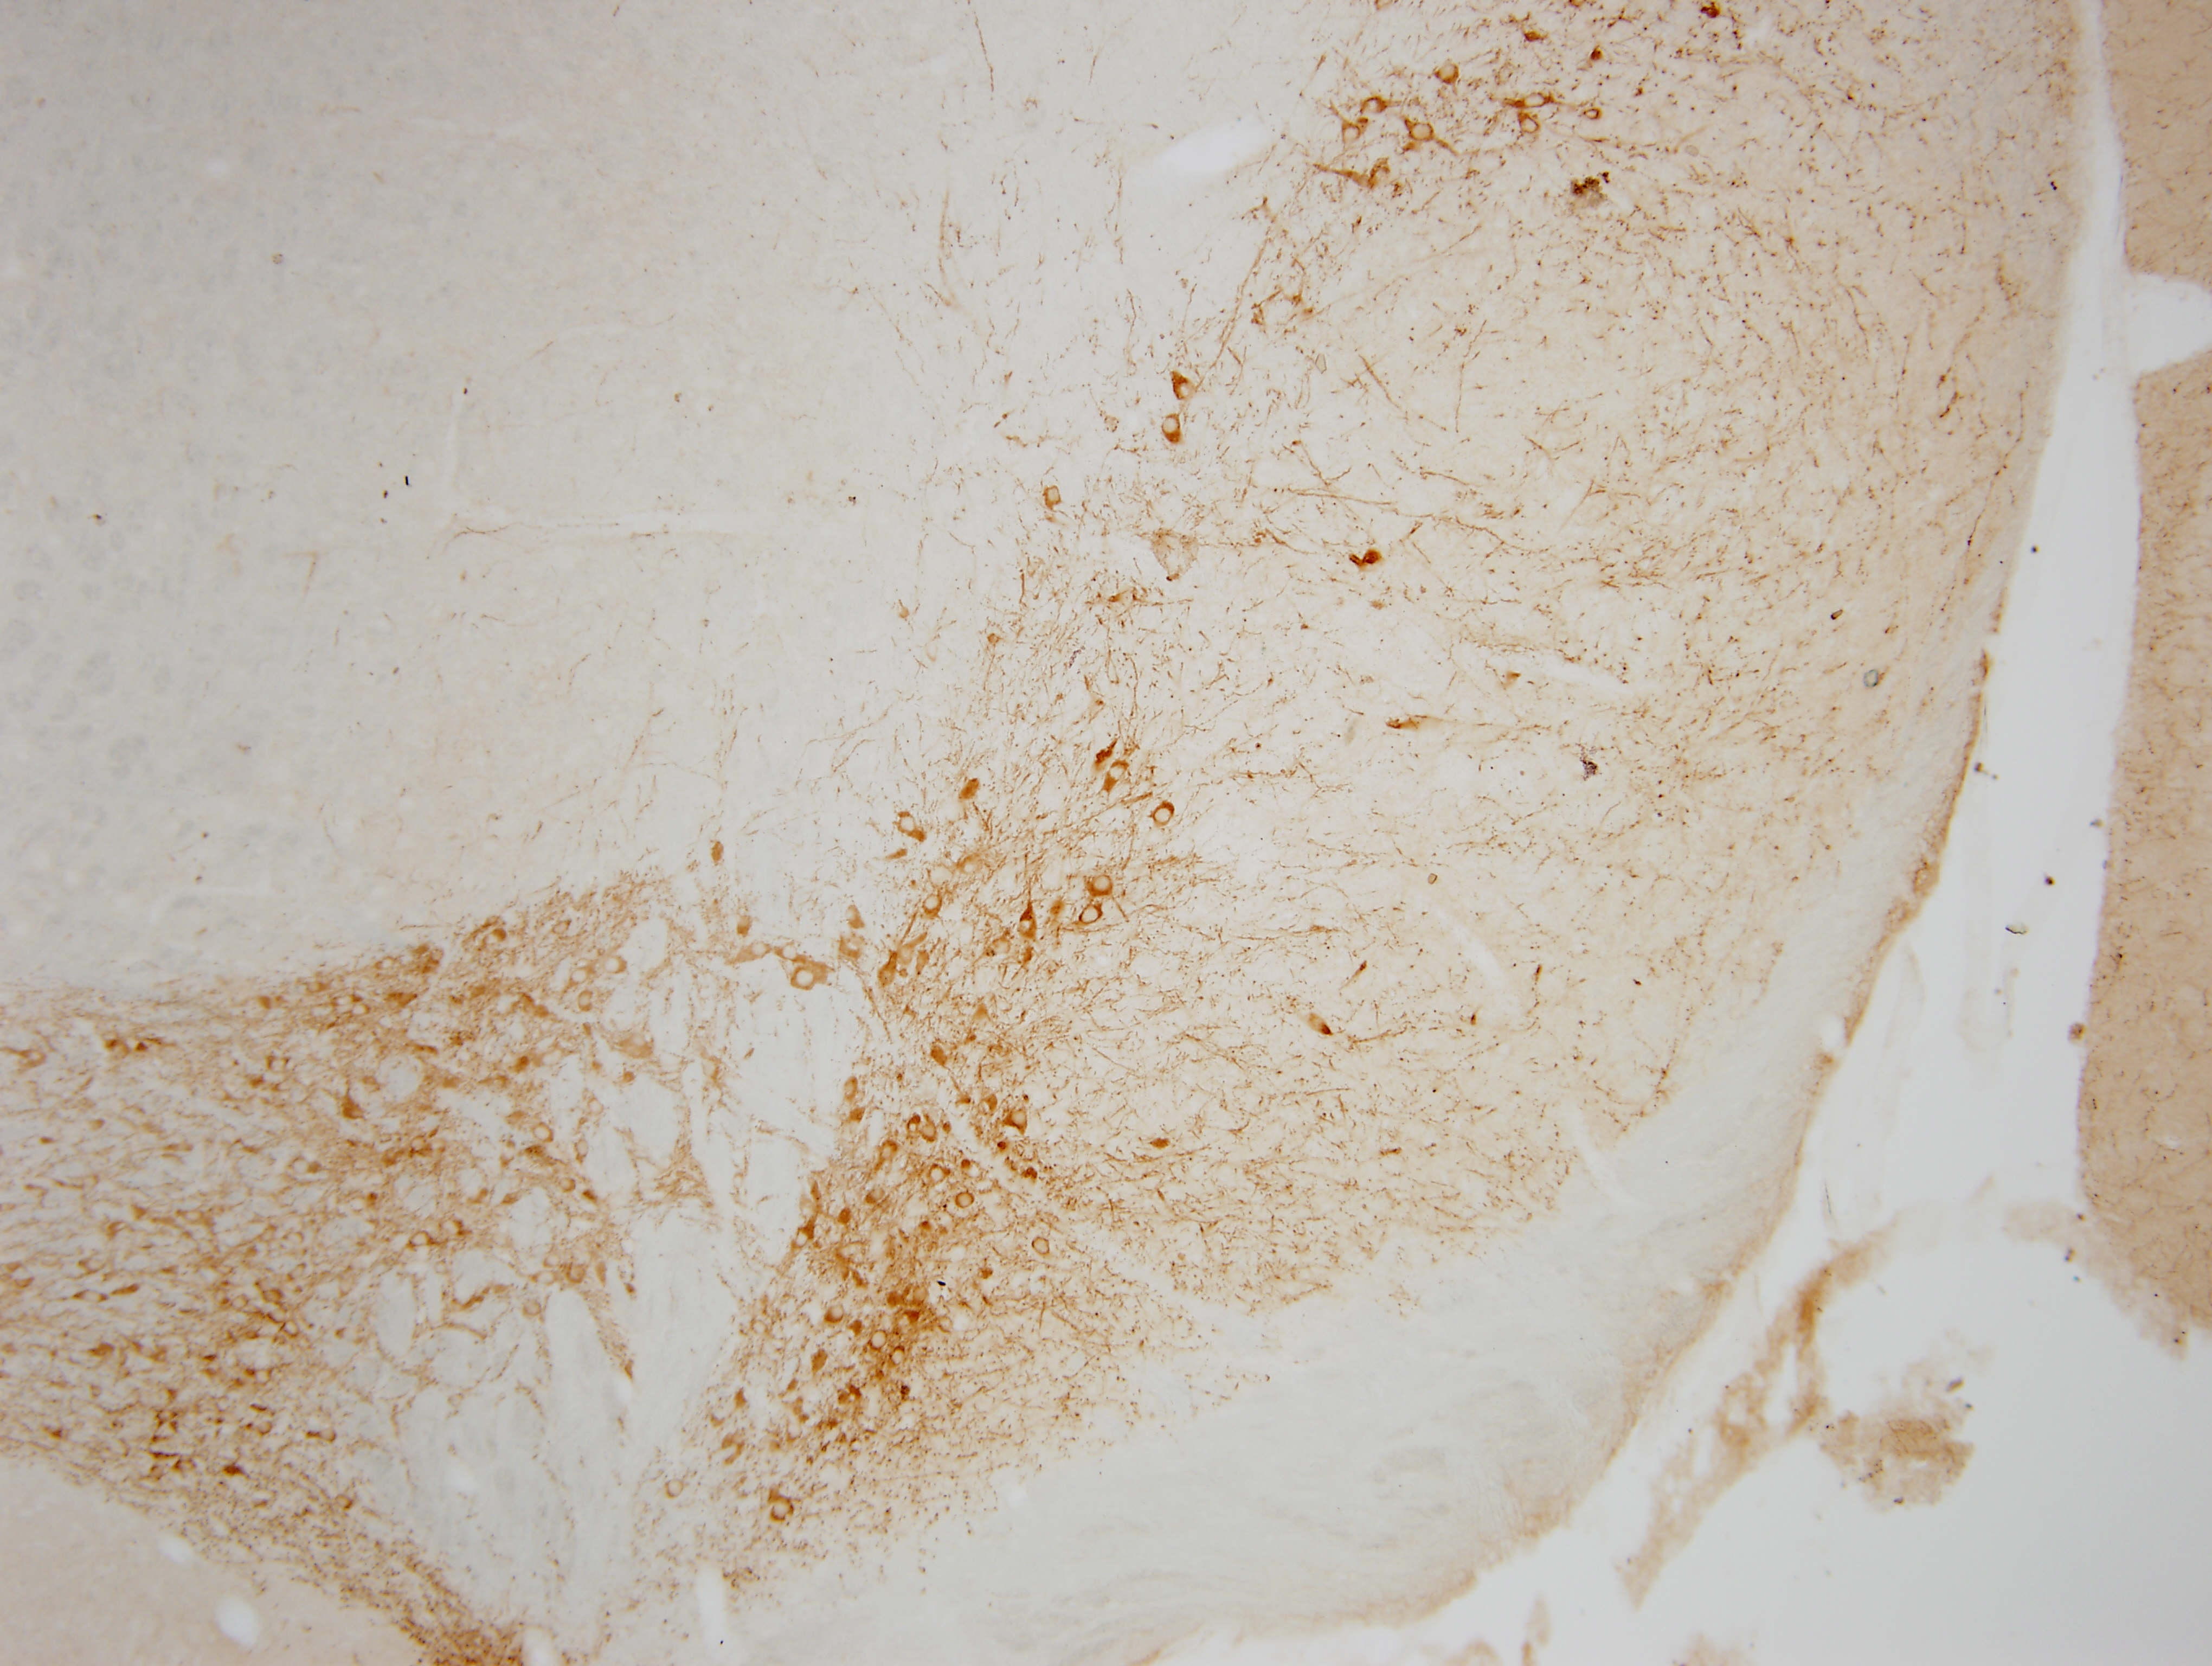neuron: (1406, 121, 1439, 154), (1434, 61, 1467, 95), (1513, 114, 1546, 147), (766, 1496, 799, 1528), (1154, 413, 1187, 445), (1168, 378, 1200, 411), (1518, 87, 1549, 121), (551, 915, 577, 941), (565, 1260, 591, 1286), (570, 963, 596, 989), (574, 987, 600, 1013), (574, 1139, 600, 1166), (600, 952, 626, 978), (661, 1477, 687, 1503), (748, 938, 775, 964), (77, 1286, 103, 1312), (790, 1225, 817, 1251), (792, 968, 818, 994), (822, 1300, 848, 1326), (839, 938, 866, 964), (841, 900, 867, 926), (864, 1185, 890, 1211), (867, 1328, 894, 1355), (874, 1138, 901, 1164), (885, 1344, 911, 1370), (895, 943, 922, 970), (916, 1120, 943, 1146), (920, 893, 946, 919), (929, 1164, 955, 1190), (953, 1188, 979, 1215), (974, 1092, 1000, 1118), (1005, 1106, 1032, 1132), (1028, 1234, 1054, 1260), (1040, 487, 1067, 513), (1079, 901, 1105, 928), (1088, 873, 1114, 900), (1105, 760, 1131, 786), (1338, 124, 1364, 150), (1362, 98, 1388, 124), (143, 1459, 170, 1486), (150, 1403, 177, 1430), (177, 1454, 203, 1480), (182, 1199, 208, 1225), (21, 1045, 47, 1071), (231, 1292, 257, 1318), (250, 1362, 276, 1388), (254, 1414, 280, 1440), (280, 1316, 306, 1342), (282, 1223, 308, 1249), (290, 1152, 316, 1178), (330, 1493, 357, 1519), (346, 1195, 372, 1222), (371, 952, 397, 978), (406, 1134, 432, 1160), (407, 1230, 434, 1256), (442, 1213, 469, 1239), (481, 928, 507, 954), (521, 1295, 547, 1321), (530, 1122, 556, 1148), (535, 1263, 561, 1290), (554, 1169, 581, 1193), (586, 1097, 610, 1123), (778, 940, 803, 966), (77, 1251, 103, 1276), (836, 1076, 862, 1101), (895, 814, 922, 838), (956, 856, 981, 882), (986, 936, 1012, 961), (1018, 914, 1044, 938), (1151, 807, 1177, 831), (1582, 105, 1609, 129), (304, 976, 330, 1001), (351, 999, 376, 1026), (540, 1244, 567, 1269), (268, 1054, 292, 1078), (313, 1423, 337, 1447)
